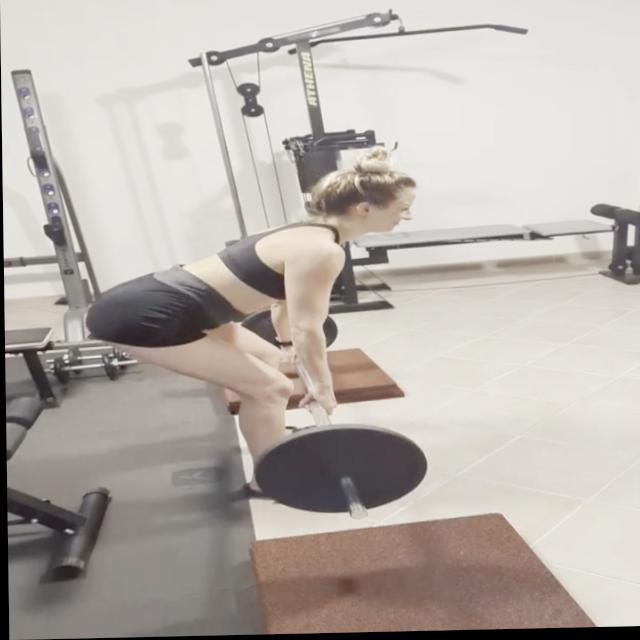barbell: (251, 421, 435, 527)
